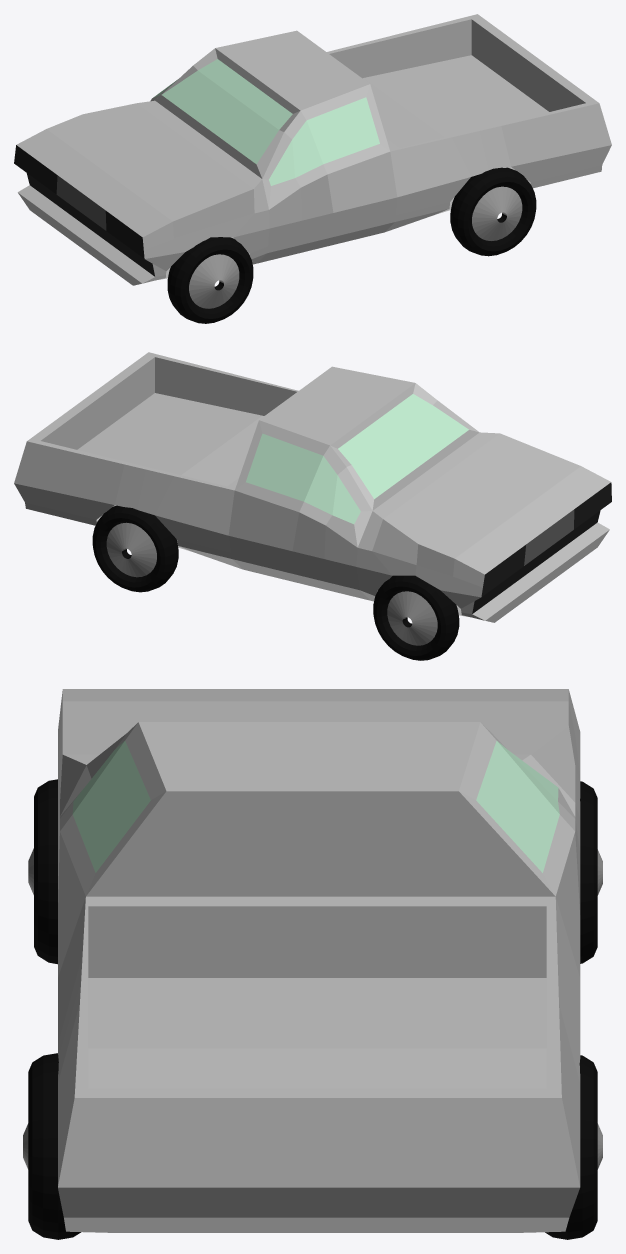
Rendered from engelkamyonet.fbx.
The picture shows the model from 3 angles, top to bottom: view 1: azimuth 30°, elevation 25°; view 2: azimuth 150°, elevation 25°; view 3: azimuth 270°, elevation 25°; orthographic projection. The views are drawn at different scales.
Parts seen in each view (by area): view 1: Cube.006, Torus.013, Torus.012; view 2: Cube.006, Torus.014, Torus.015; view 3: Cube.006, Torus.013, Torus.012, Torus.014, Torus.015.
Part boxes in pixels (x1,y1,x2,y2): Cube.006: (14,14,611,285); Torus.013: (450,167,536,256); Torus.012: (167,237,253,323); Cube.006: (14,352,611,622); Torus.014: (92,505,178,592); Torus.015: (373,575,459,660); Cube.006: (58,689,580,1232); Torus.013: (23,1053,81,1239); Torus.012: (28,779,57,964); Torus.014: (545,1055,602,1239); Torus.015: (580,781,602,963).
Bounding box in the file's own units: 5960 × 2106 × 3198.
